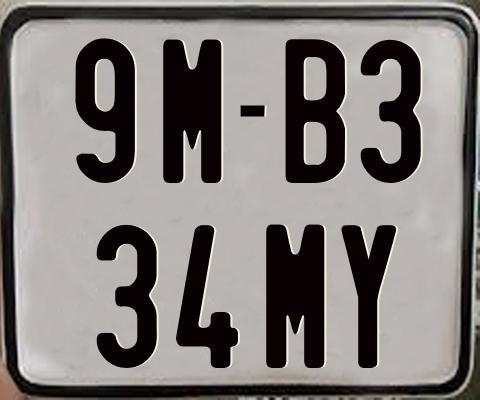3: (93, 225, 160, 372), (358, 38, 422, 186)
4: (173, 225, 235, 368)
9: (75, 36, 139, 185)
B: (285, 38, 346, 187)
M: (263, 222, 325, 366), (163, 36, 221, 184)
Y: (339, 224, 394, 371)
